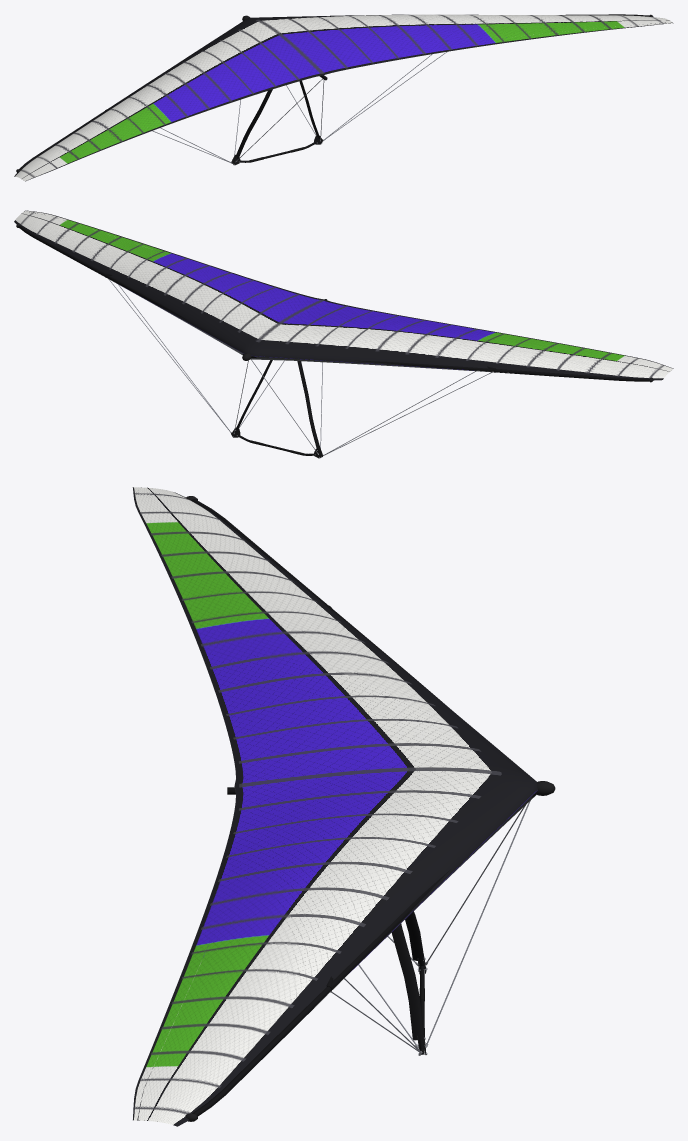
File: glider_dp_she1.glb
3 views of the same model, one above another, from view 1: azimuth 30°, elevation 25°; view 2: azimuth 150°, elevation 25°; view 3: azimuth 270°, elevation 25° (orthographic). The views are drawn at different scales.
Visible parts, largest first — view 1: Sail, ControlFrame, Frame; view 2: Sail, ControlFrame, Frame; view 3: Sail, ControlFrame, Frame.
Part boxes in pixels (x1,y1,x2,y2): Sail: (14,14,673,181); ControlFrame: (152,51,447,165); Frame: (16,14,653,172); Sail: (14,210,673,380); ControlFrame: (108,279,492,458); Frame: (16,223,653,382); Sail: (132,487,537,1126); ControlFrame: (331,800,530,1055); Frame: (185,496,555,1121).
Bounding box in the file's own units: 10.35 × 1.9 × 2.92.
Materials: 8 (1 with a texture image).
